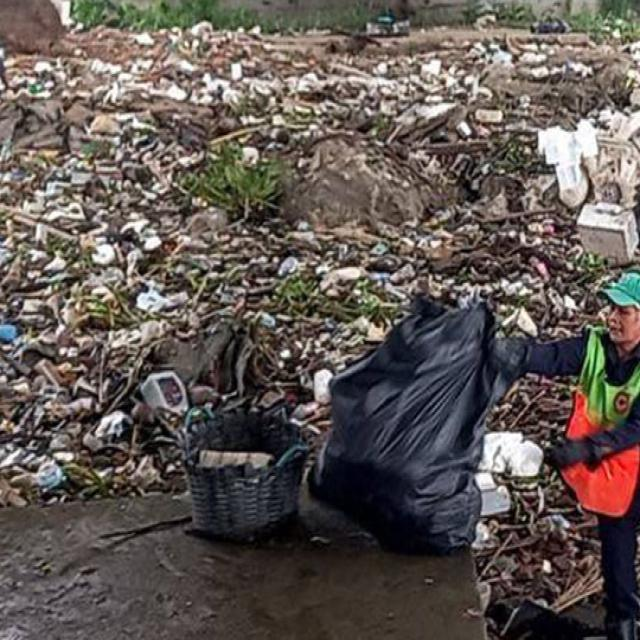-: (7, 94, 421, 479)
